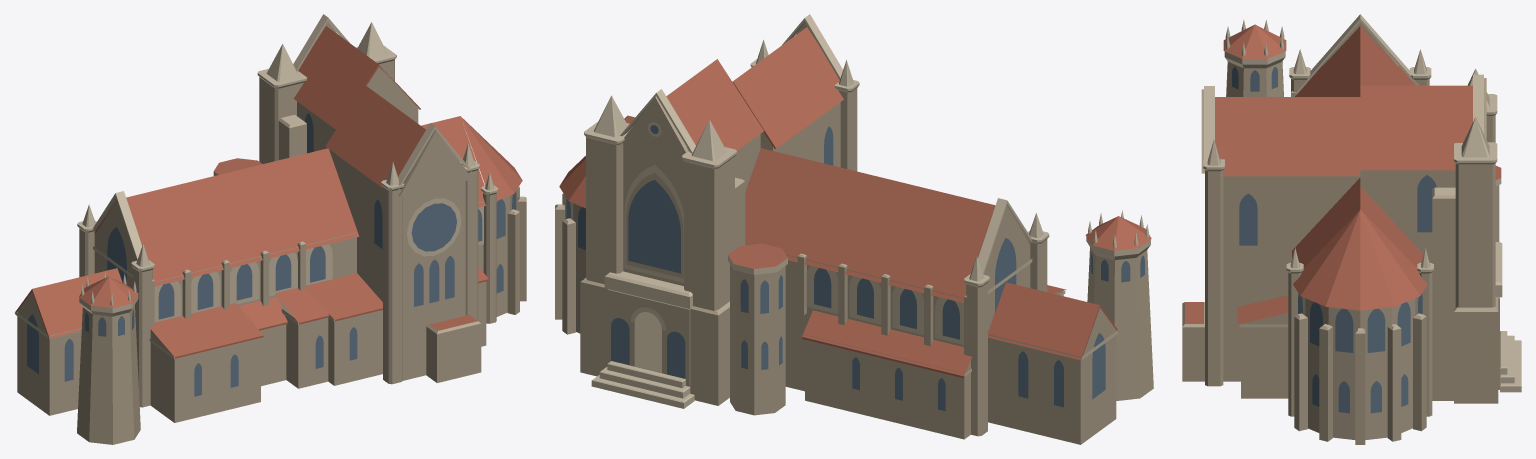
The model's file is cpt-st-georges-cathedral.glb.
3 views of the same model, side by side, from view 1: azimuth 30°, elevation 25°; view 2: azimuth 150°, elevation 25°; view 3: azimuth 270°, elevation 25° (orthographic). The views are drawn at different scales.
Visible parts, largest first — view 1: St George's Cathedral; view 2: St George's Cathedral; view 3: St George's Cathedral.
Part boxes in pixels (bbox=[...]): St George's Cathedral: bbox=[15, 14, 526, 444]; St George's Cathedral: bbox=[555, 14, 1153, 444]; St George's Cathedral: bbox=[1182, 14, 1521, 444].
Size of the model in its own units: 74.8 by 38.95 by 40.6.
